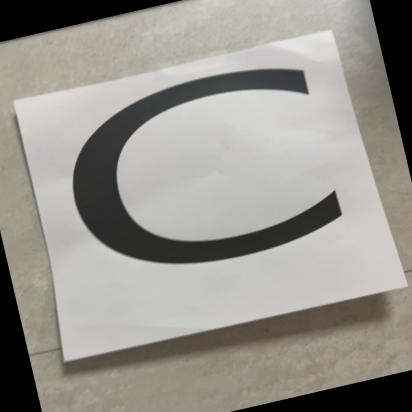seat: (20, 31, 404, 360)
